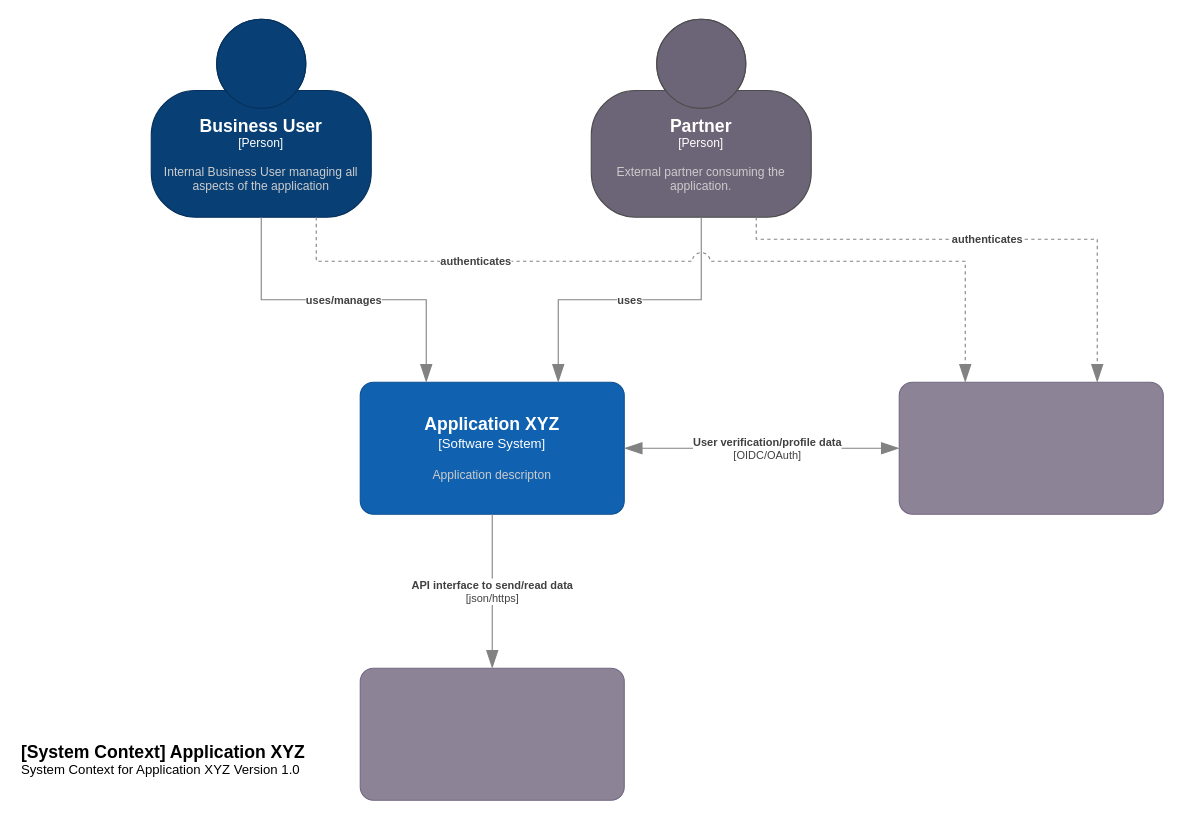
Some shapes in this 1183 by 820 pixel diagram are drawn without their labels. Each missing label, with the centre of its shape:
Azure AD [Software System] Identity Provider to manage and grant users: (x=1030, y=447)
External System A [Software System] Description of the external system: (x=491, y=733)
